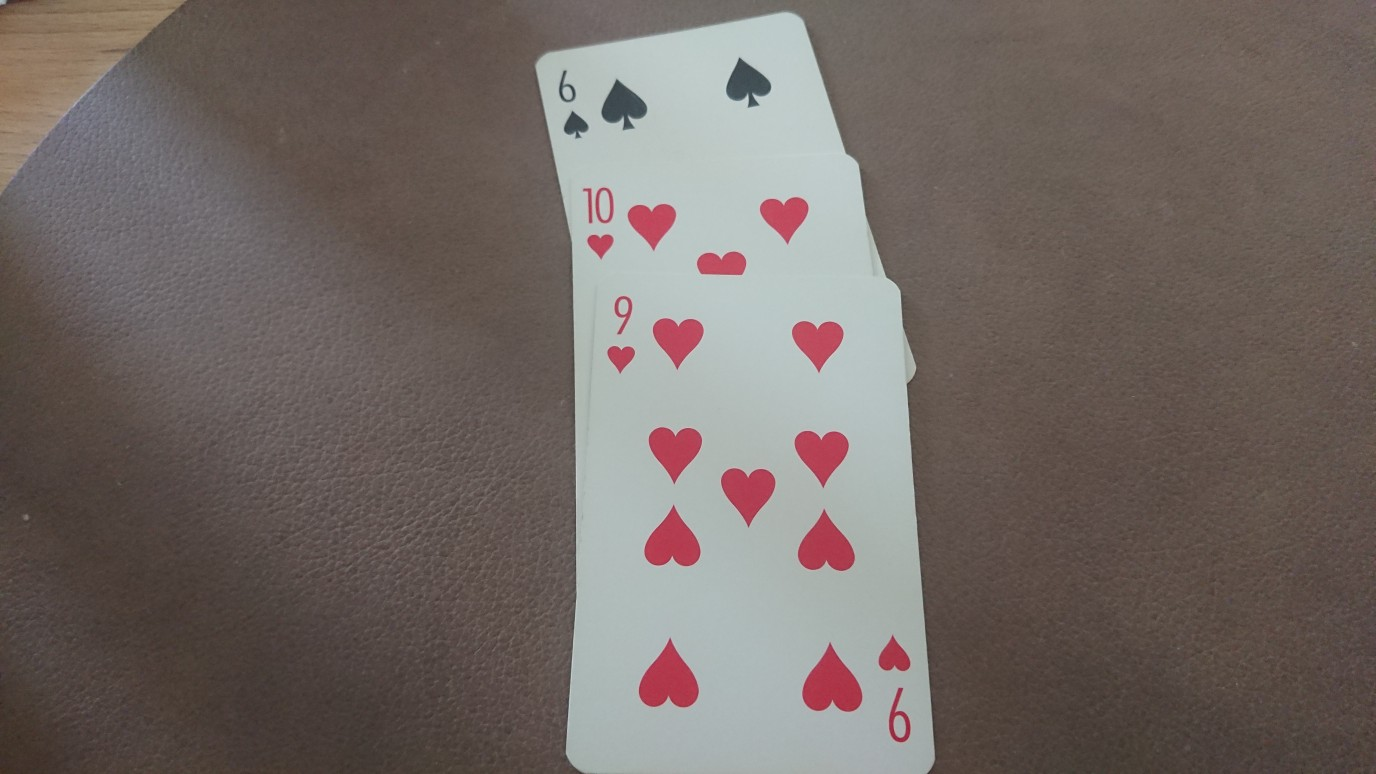10H: (577, 183, 622, 262)
6S: (552, 66, 595, 143)
9H: (603, 292, 641, 378)
